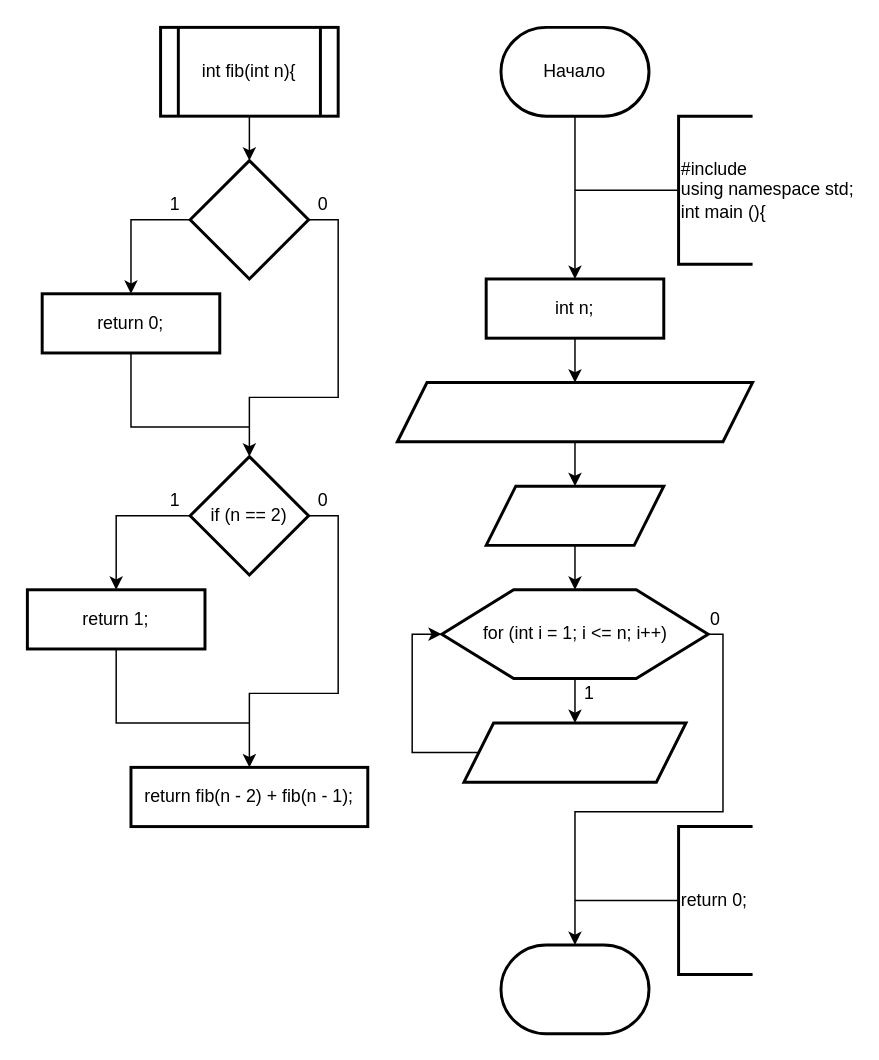
The diagram is 879 pixels wide and 1060 high, and some of its shapes have lost their labels. The centre of each missing label's shape, as x and y in pixels:
cin >> n;: (x=574, y=515)
cout << "Введите числа фибоначи: ";: (x=574, y=411)
cout << fib(i) << ' ';: (x=574, y=752)
if (n == 1): (x=248, y=219)
Конец: (x=574, y=989)
